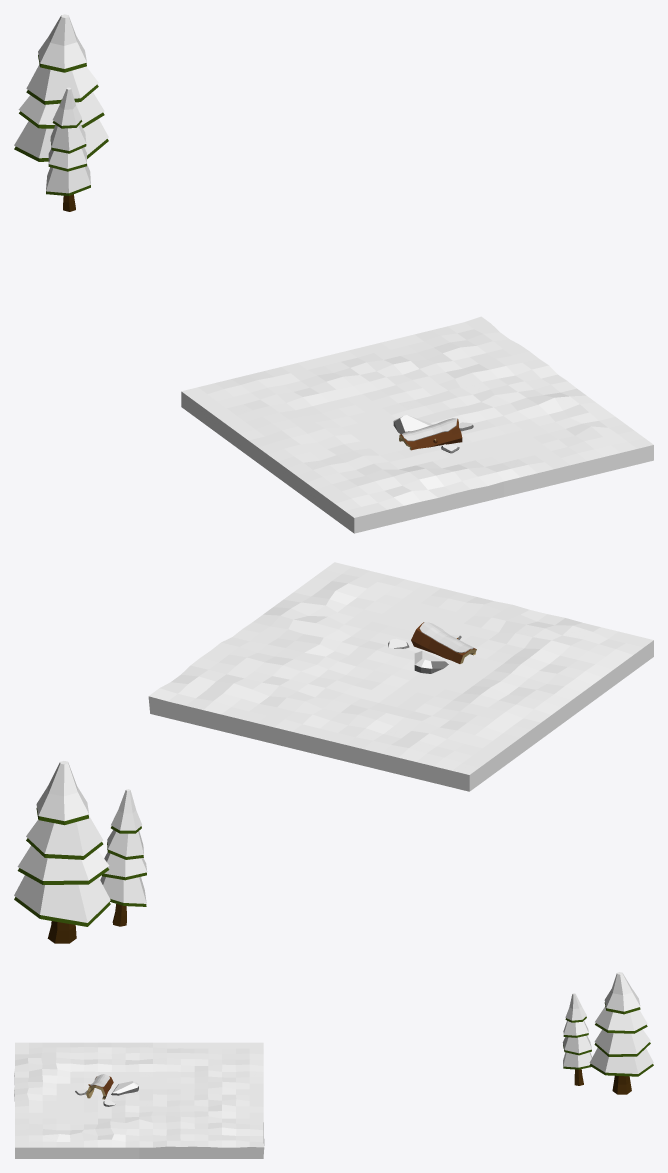
3 renders of one model, top to bottom at view 1: azimuth 30°, elevation 25°; view 2: azimuth 150°, elevation 25°; view 3: azimuth 270°, elevation 25°, orthographic. The views are drawn at different scales.
Parts seen in each view (by area): view 1: Cube, Cylinder.001, Cylinder.003, Cylinder; view 2: Cube, Cylinder.001, Cylinder.003, Cylinder, Cylinder.002, Cube.003; view 3: Cube, Cylinder.001, Cylinder.003.
Boxes of the visible parts, bbox=[...] form: Cube: bbox=[181, 316, 653, 533]; Cylinder.001: bbox=[14, 14, 108, 161]; Cylinder.003: bbox=[46, 87, 90, 211]; Cylinder: bbox=[399, 418, 462, 450]; Cube: bbox=[148, 562, 653, 791]; Cylinder.001: bbox=[14, 761, 110, 943]; Cylinder.003: bbox=[100, 789, 147, 926]; Cylinder: bbox=[411, 622, 476, 663]; Cylinder.002: bbox=[419, 622, 473, 653]; Cube.003: bbox=[414, 651, 448, 673]; Cube: bbox=[14, 1042, 264, 1158]; Cylinder.001: bbox=[589, 972, 653, 1094]; Cylinder.003: bbox=[562, 993, 592, 1085].
Bounding box in the file's own units: 4013 × 2256 × 10308.
